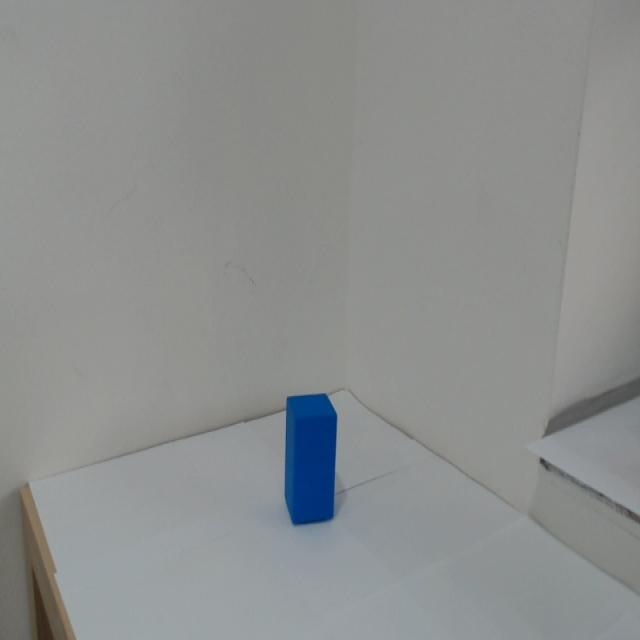cube: (265, 385, 366, 568)
